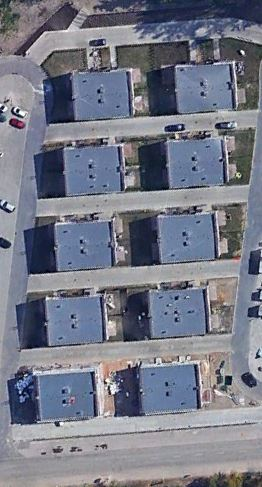block of flats: (170, 56, 240, 115), (66, 66, 136, 125), (58, 140, 128, 199), (48, 216, 118, 275), (38, 292, 108, 351), (160, 133, 230, 192), (151, 210, 221, 269), (142, 283, 212, 342), (135, 359, 205, 418), (31, 367, 101, 426)
